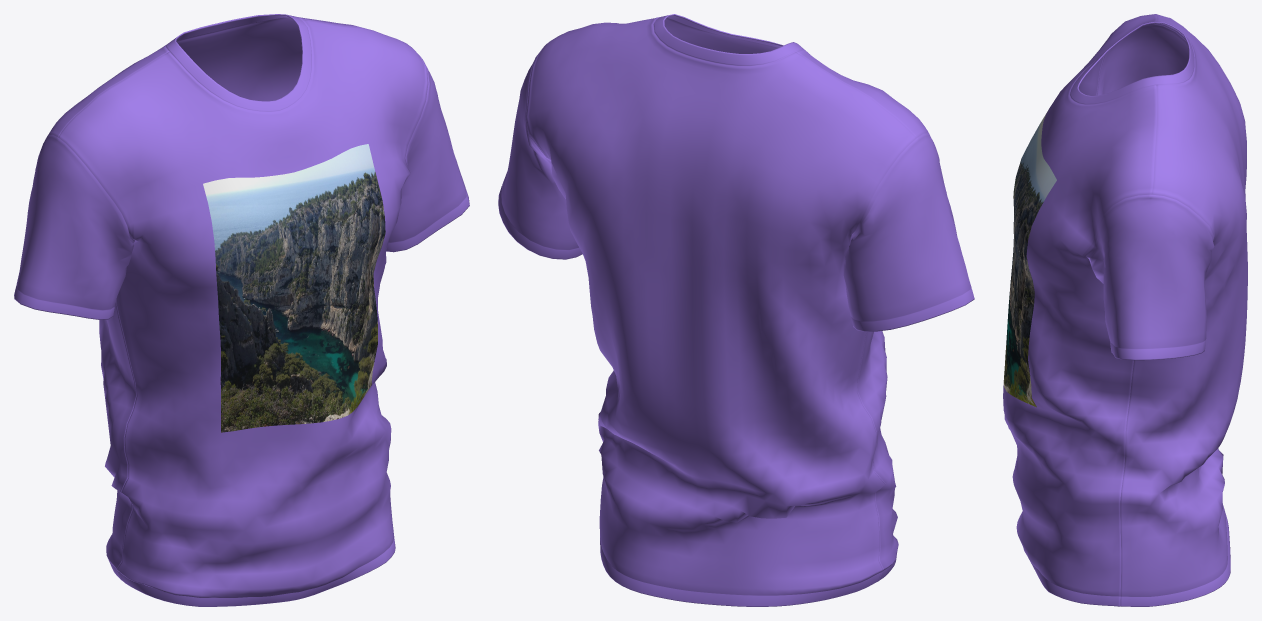
The model's file is tshirt-man.gltf.
The picture shows the model from 3 angles, left to right: view 1: azimuth 30°, elevation 25°; view 2: azimuth 150°, elevation 25°; view 3: azimuth 270°, elevation 25°; orthographic projection. The views are drawn at different scales.
Visible parts, largest first — view 1: tshirt; view 2: tshirt; view 3: tshirt.
Boxes of the visible parts, bbox=[...] form: tshirt: bbox=[14, 14, 469, 606]; tshirt: bbox=[498, 14, 974, 606]; tshirt: bbox=[1003, 14, 1247, 606].
Size of the model in its own units: 55.27 by 61.34 by 26.98.
2 materials, 1 textured.
